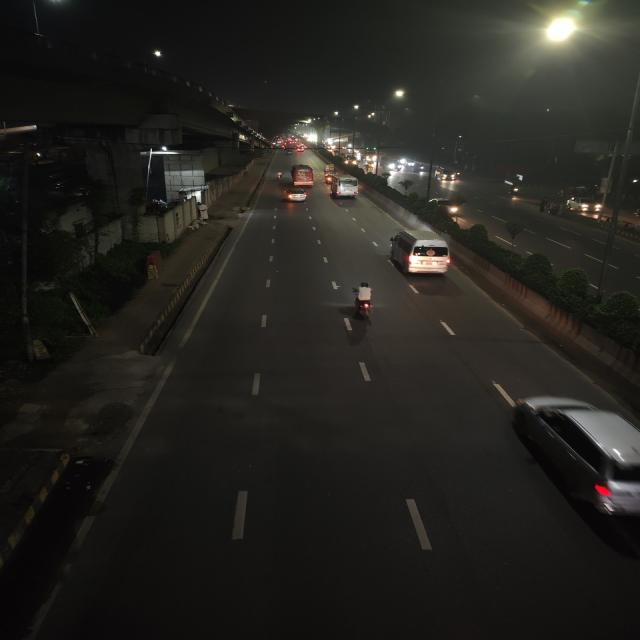bus: (336, 174, 362, 200), (290, 164, 316, 186)
car: (501, 387, 640, 535), (384, 227, 457, 281), (285, 186, 308, 204), (436, 168, 461, 182)
cng: (286, 149, 293, 156)
motorcycle: (345, 280, 382, 320), (504, 182, 522, 196), (274, 170, 284, 181)
